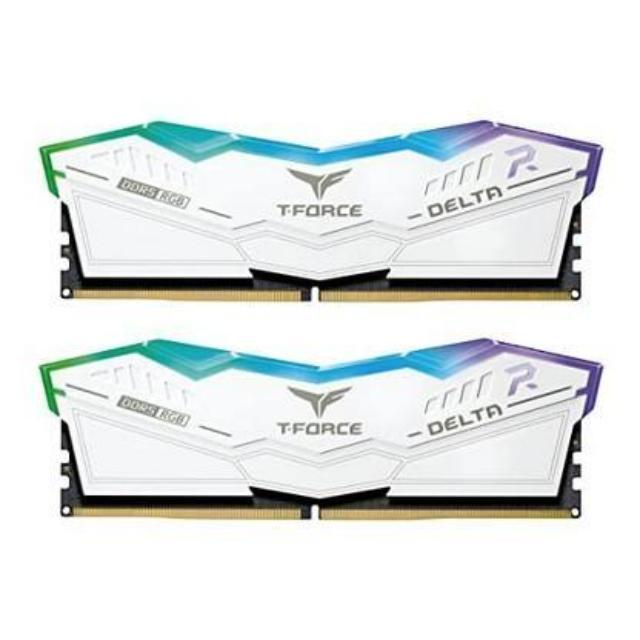RAM: (38, 112, 602, 314), (33, 333, 604, 527)
